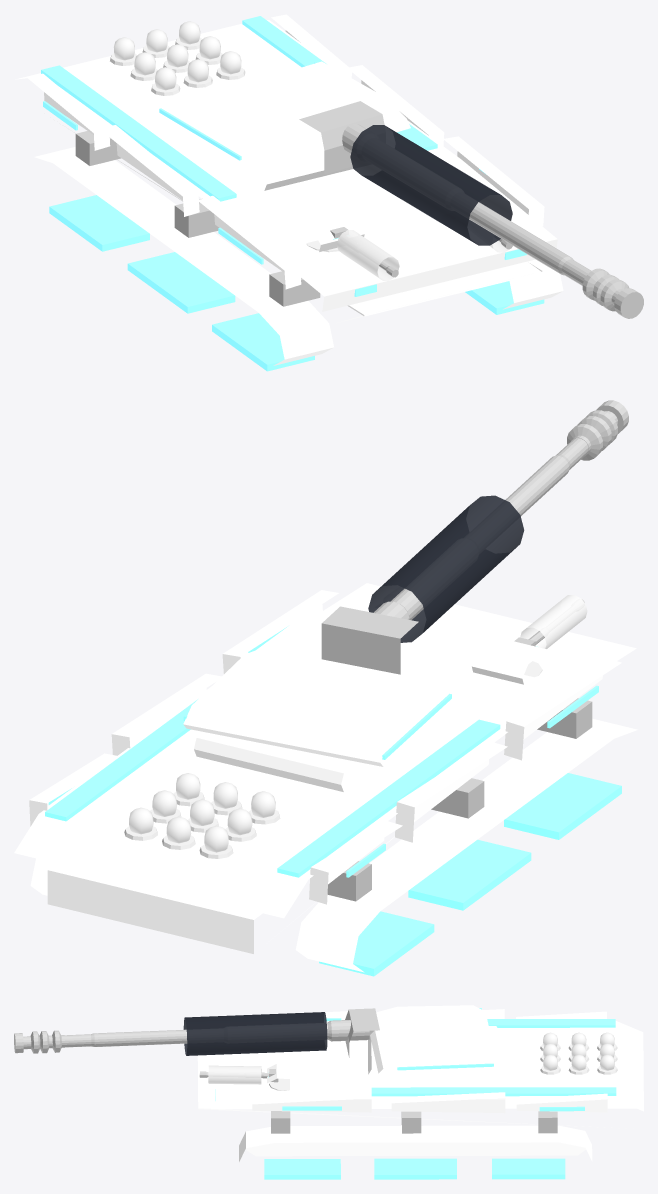
Rendered from mkcx2_game_03fdc11d.glb.
The picture shows the model from 3 angles, top to bottom: view 1: azimuth 30°, elevation 25°; view 2: azimuth 150°, elevation 25°; view 3: azimuth 270°, elevation 25°; orthographic projection. The views are drawn at different scales.
Visible parts, largest first — view 1: HullVib, Turret_Pivot, Hover_Gear, Barrel_Pivot, ShellRack_Mount, LiftEmitter_L2, LiftEmitter_L1, LiftEmitter_L3, Secondary_L_Gun_Pivot, LiftEmitter_R3; view 2: HullVib, Turret_Pivot, Hover_Gear, Barrel_Pivot, ShellRack_Mount, LiftEmitter_L2, LiftEmitter_L3, LiftEmitter_L1, Secondary_L_Gun_Pivot; view 3: HullVib, Hover_Gear, Turret_Pivot, Barrel_Pivot, ShellRack_Mount, LiftEmitter_R2, LiftEmitter_R1, LiftEmitter_R3, Secondary_R_Gun_Pivot.
Boxes of the visible parts, box(x1,y1,x2,y2) form: HullVib: box(15, 14, 557, 323); Turret_Pivot: box(159, 61, 643, 318); Hover_Gear: box(34, 131, 563, 365); Barrel_Pivot: box(350, 125, 512, 245); ShellRack_Mount: box(110, 21, 245, 95); LiftEmitter_L2: box(127, 252, 235, 313); LiftEmitter_L1: box(49, 195, 149, 251); LiftEmitter_L3: box(212, 313, 314, 371); Secondary_L_Gun_Pivot: box(330, 227, 399, 280); LiftEmitter_R3: box(465, 281, 544, 314); HullVib: box(14, 583, 636, 953); Turret_Pivot: box(183, 400, 628, 766); Hover_Gear: box(30, 698, 637, 972); Barrel_Pivot: box(368, 495, 524, 642); ShellRack_Mount: box(124, 773, 280, 858); LiftEmitter_L2: box(408, 839, 531, 910); LiftEmitter_L3: box(504, 773, 621, 839); LiftEmitter_L1: box(319, 911, 434, 976); Secondary_L_Gun_Pivot: box(514, 595, 587, 648); HullVib: box(197, 1009, 643, 1128); Hover_Gear: box(239, 1111, 592, 1161); Turret_Pivot: box(14, 1005, 497, 1073); Barrel_Pivot: box(183, 1012, 327, 1055); ShellRack_Mount: box(540, 1032, 617, 1074); LiftEmitter_R2: box(374, 1158, 456, 1179); LiftEmitter_R1: box(492, 1158, 565, 1179); LiftEmitter_R3: box(264, 1159, 340, 1179); Secondary_R_Gun_Pivot: box(199, 1065, 278, 1084).
Size of the model in its own units: 0.929 by 0.5593 by 2.6.
